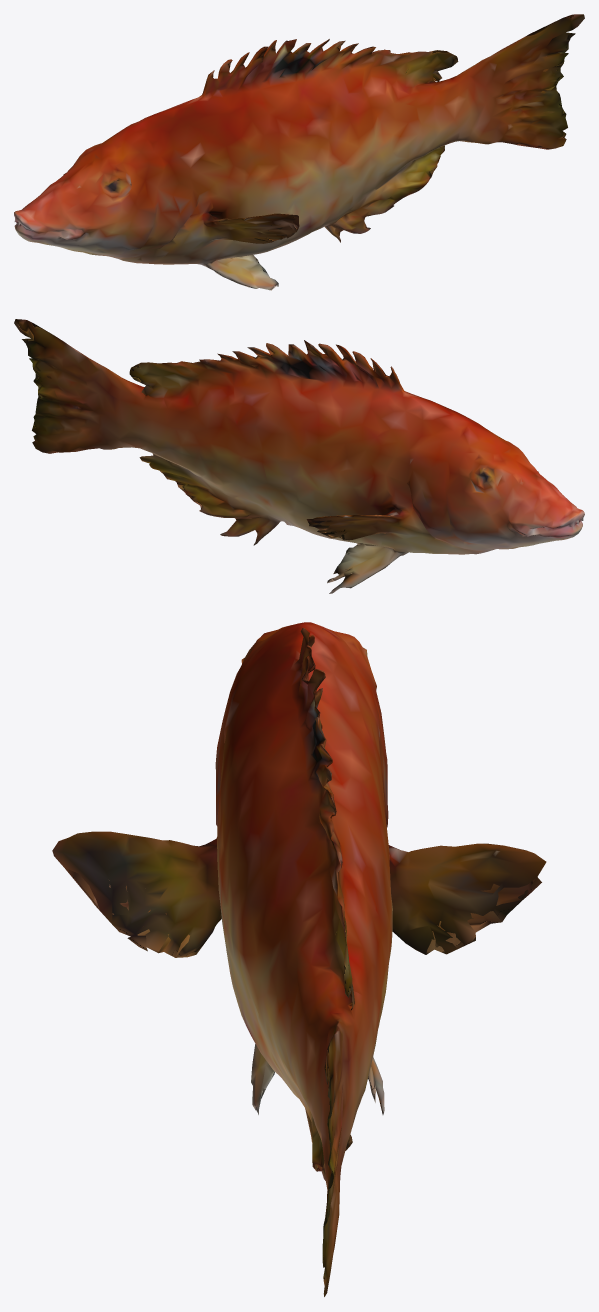
Rendered from snooty-wrasse.glb.
3 views of the same model, one above another, from view 1: azimuth 30°, elevation 25°; view 2: azimuth 150°, elevation 25°; view 3: azimuth 270°, elevation 25° (orthographic). The views are drawn at different scales.
Parts seen in each view (by area): view 1: baked; view 2: baked; view 3: baked.
Part boxes in pixels (left/top/right/bottom): baked: left=14, top=14, right=584, bottom=290; baked: left=14, top=319, right=584, bottom=593; baked: left=52, top=622, right=546, bottom=1296.
Size of the model in its own units: 1 by 0.3951 by 0.3791.
